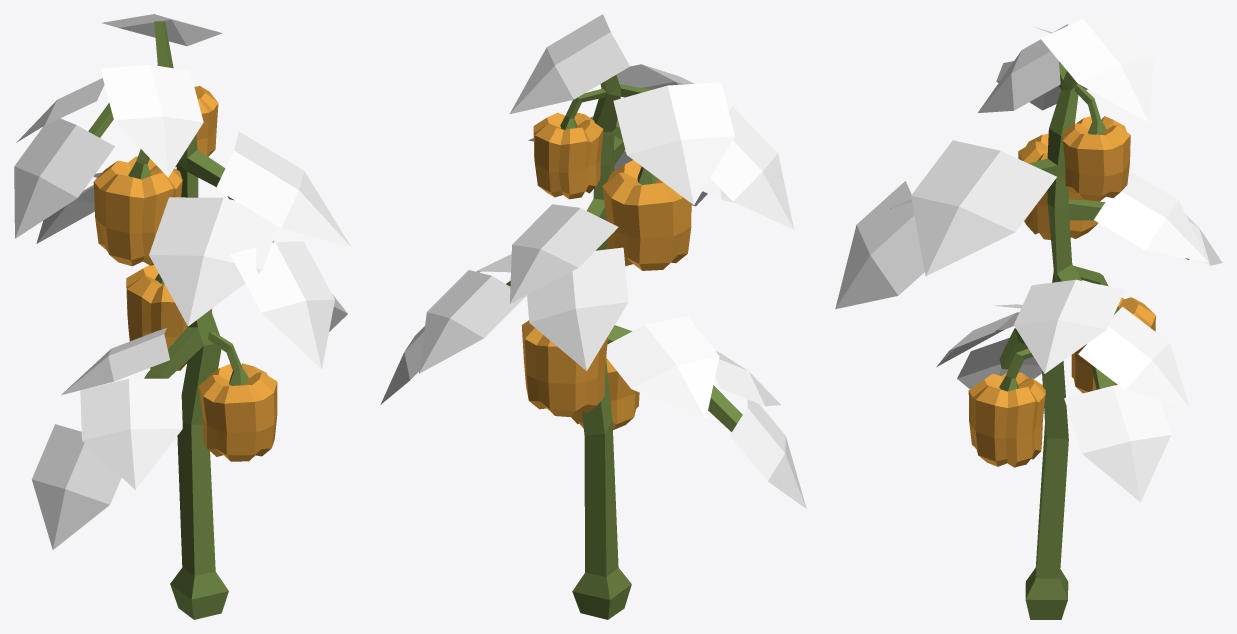
Rendered from pepper_plant.glb.
The picture shows the model from 3 angles, left to right: view 1: azimuth 30°, elevation 25°; view 2: azimuth 150°, elevation 25°; view 3: azimuth 270°, elevation 25°; orthographic projection. The views are drawn at different scales.
Visible parts, largest first — view 1: SM_Prop_Plant_Bush_01_Pepper; view 2: SM_Prop_Plant_Bush_01_Pepper; view 3: SM_Prop_Plant_Bush_01_Pepper.
Part boxes in pixels (x1,y1,x2,y2): SM_Prop_Plant_Bush_01_Pepper: (14, 14, 351, 619); SM_Prop_Plant_Bush_01_Pepper: (380, 14, 806, 619); SM_Prop_Plant_Bush_01_Pepper: (835, 14, 1222, 619).
Bounding box in the file's own units: 0.6271 × 0.9888 × 0.5972.
2 materials, 2 textured.
